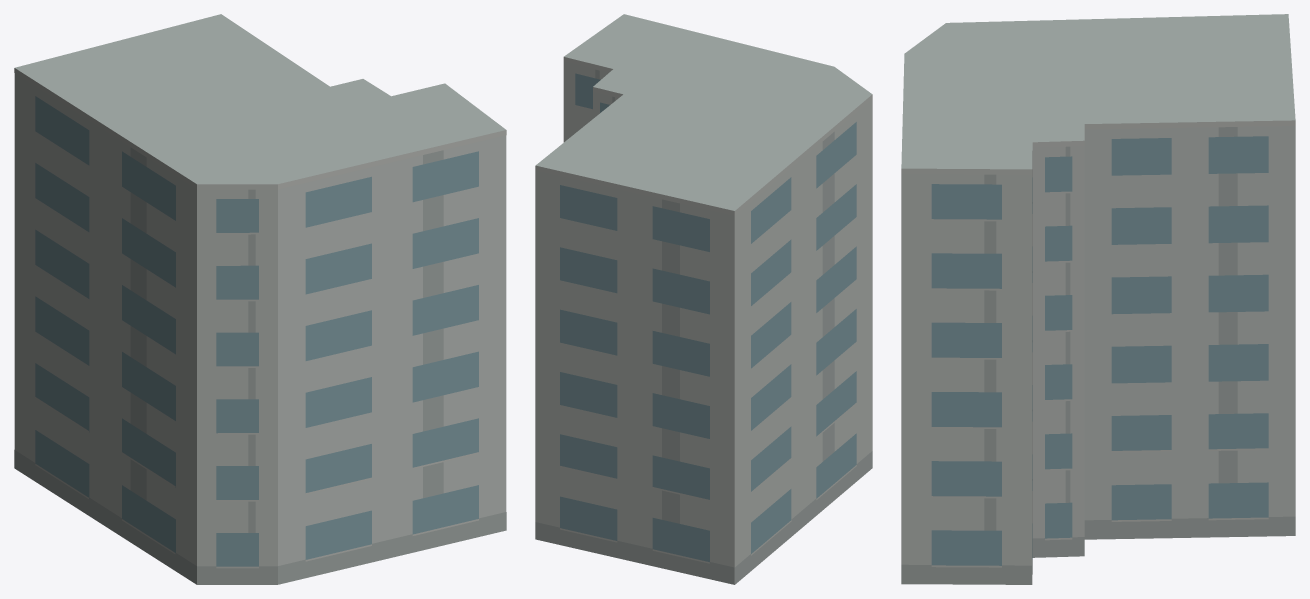
File: survey-upis-32846194.glb
The picture shows the model from 3 angles, left to right: view 1: azimuth 30°, elevation 25°; view 2: azimuth 150°, elevation 25°; view 3: azimuth 270°, elevation 25°; orthographic projection. The views are drawn at different scales.
Visible parts, largest first — view 1: survey-upis-32846194.tmp; view 2: survey-upis-32846194.tmp; view 3: survey-upis-32846194.tmp.
Boxes of the visible parts, x1=… form: survey-upis-32846194.tmp: x1=14, y1=14, x2=506, y2=584; survey-upis-32846194.tmp: x1=535, y1=14, x2=872, y2=584; survey-upis-32846194.tmp: x1=901, y1=14, x2=1295, y2=584.
Bounding box in the file's own units: 14.73 × 18.35 × 15.79.
